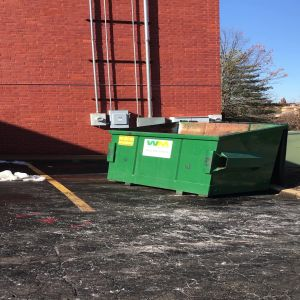Dumpster: (104, 119, 291, 205)
